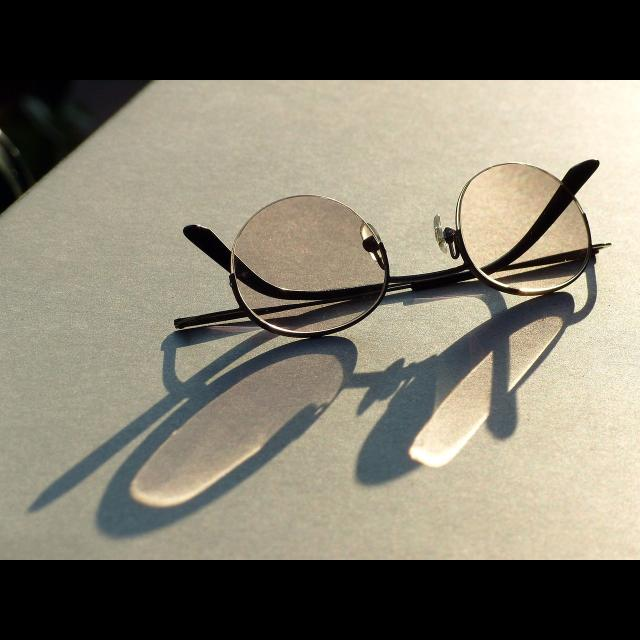Sunglasses: (160, 161, 614, 325)
